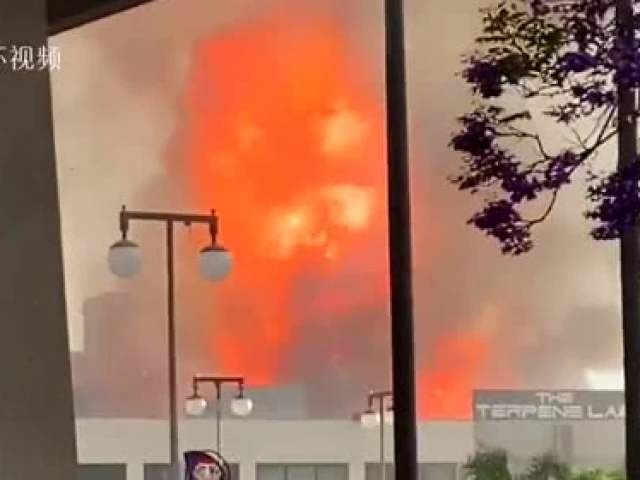fire: (196, 21, 386, 389)
